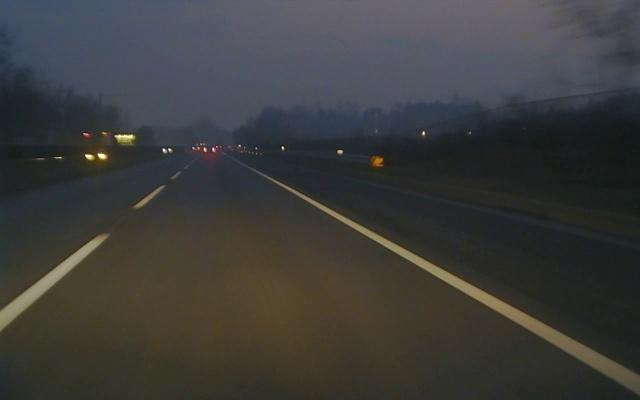lane: (241, 163, 640, 395), (0, 171, 182, 331)
